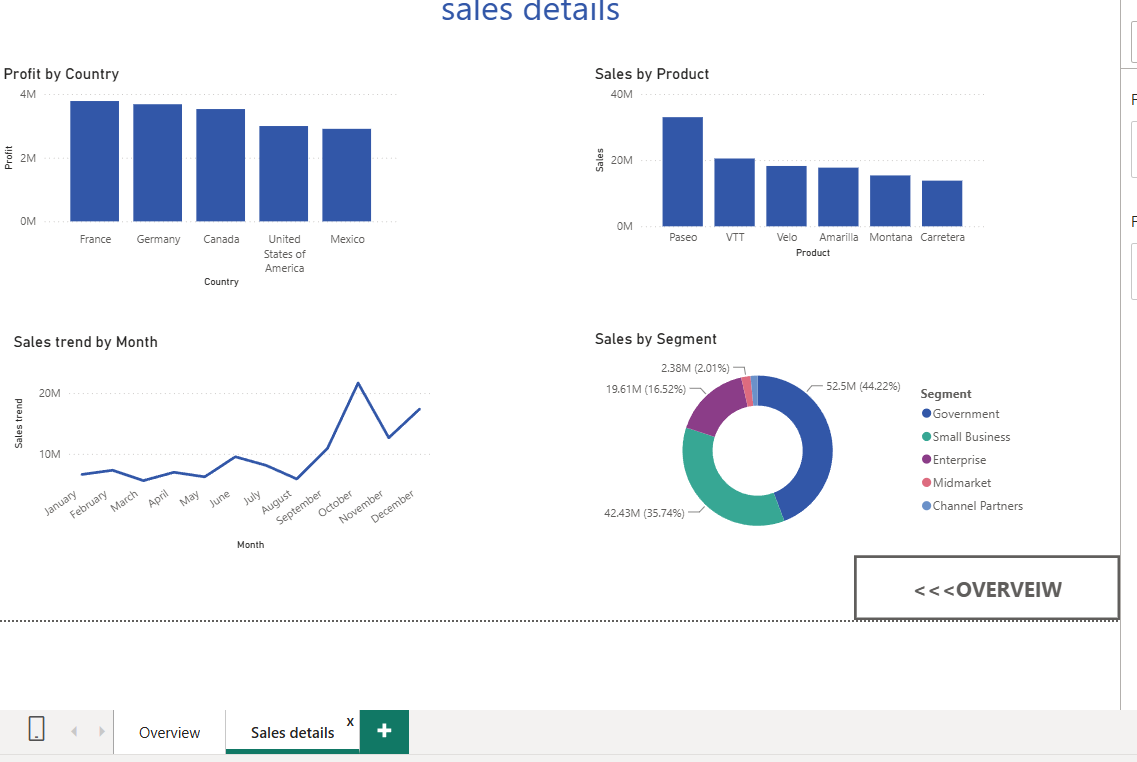

Layout of this report page (visuals, bound fields, positions):
{"tool":"powerbi","page":{"name":"Sales details","canvas":[1280,720],"ordinal":1},"visuals":[{"type":"clusteredColumnChart","fields":{"Category":["financials.Product"],"Y":["Sum(financials. Sales)"]},"box":[698.5,109.8,437.7,218.2],"z":0},{"type":"clusteredColumnChart","fields":{"Category":["financials.Country"],"Y":["Sum(financials.Profit)"]},"box":[49.4,109.8,443.2,249.7],"z":1},{"type":"lineChart","fields":{"Category":["financials.Date.Variation.Date Hierarchy.Month"],"Y":["Sum(financials. Sales)"]},"box":[60.4,404.8,469.3,244.3],"z":2},{"type":"donutChart","fields":{"Category":["financials.Segment"],"Y":["Sum(financials. Sales)"]},"box":[698.5,400.7,489.9,248.4],"z":3},{"type":"actionButton","box":[988,649.1,292.3,71.4],"z":4},{"type":"textbox","box":[502,110,196,250],"z":5},{"type":"textbox","box":[529.7,16.5,312.9,60.4],"z":6}]}

Visuals, with their boxes on the page's 1280x720 design canvas (x1, y1, x2, y2). These are canvas units, not pixel positions in the 1137x762 screenshot, which may show the page scaled, cropped or inside an application window:
clusteredColumnChart - financials.Product x Sum(financials. Sales): bbox(698, 110, 1136, 328)
clusteredColumnChart - financials.Country x Sum(financials.Profit): bbox(49, 110, 493, 360)
lineChart - financials.Date.Variation.Date Hierarchy.Month x Sum(financials. Sales): bbox(60, 405, 530, 649)
donutChart - financials.Segment x Sum(financials. Sales): bbox(698, 401, 1188, 649)
actionButton: bbox(988, 649, 1280, 720)
textbox: bbox(502, 110, 698, 360)
textbox: bbox(530, 16, 843, 77)
